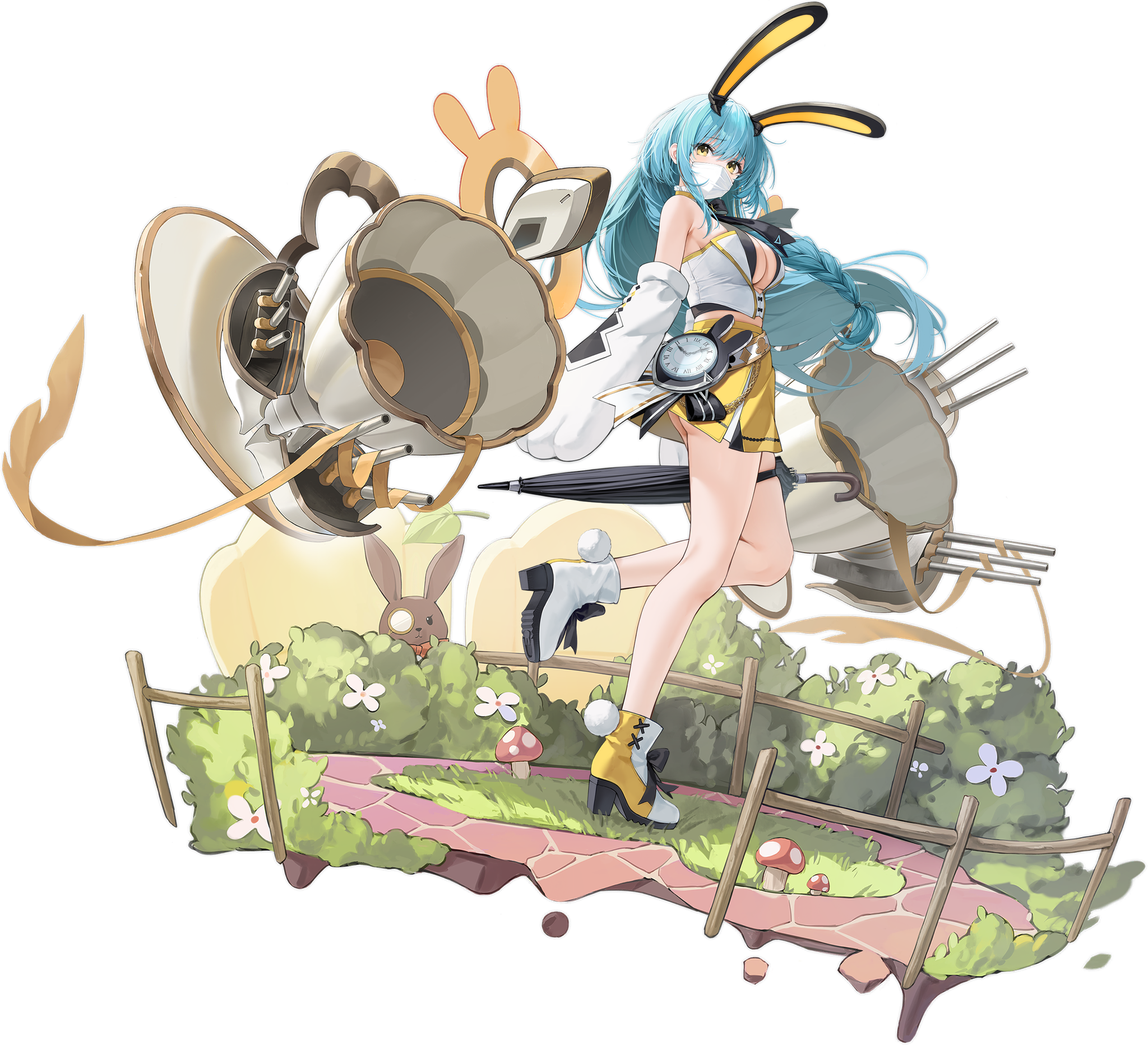person: (135, 27, 1075, 893)
